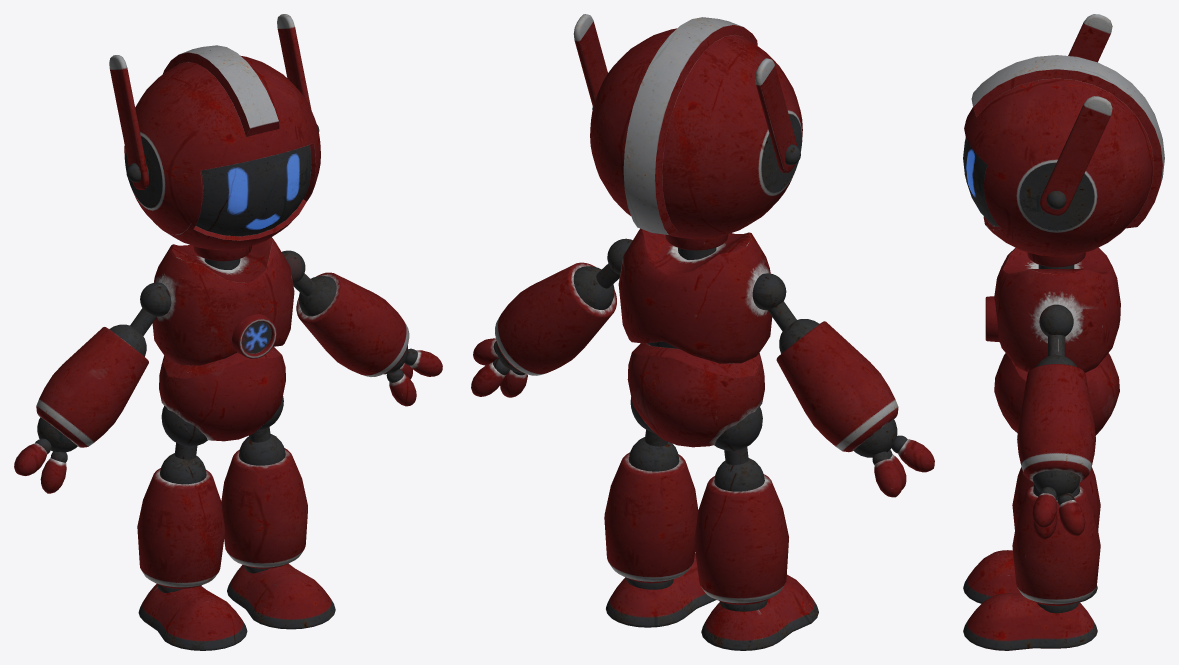
The picture shows the model from 3 angles, left to right: view 1: azimuth 30°, elevation 25°; view 2: azimuth 150°, elevation 25°; view 3: azimuth 270°, elevation 25°; orthographic projection. The views are drawn at different scales.
Visible parts, largest first — view 1: KnowerBot; view 2: KnowerBot; view 3: KnowerBot.
Boxes of the visible parts, bbox=[...] form: KnowerBot: bbox=[14, 14, 442, 650]; KnowerBot: bbox=[471, 14, 934, 650]; KnowerBot: bbox=[963, 14, 1164, 650].
Size of the model in its own units: 3.91 by 4.88 by 1.61.
Materials: 1 (1 with a texture image).
